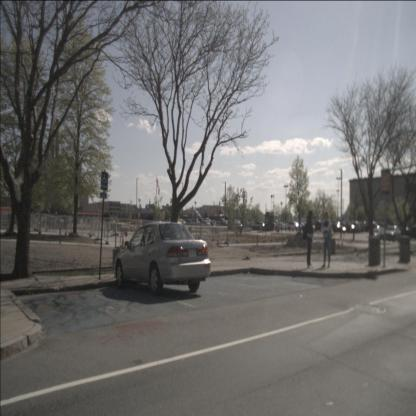human-pedestrian-adult: (302, 209, 315, 269), (321, 212, 334, 268)
movable_object-trafficcone: (120, 225, 126, 248), (216, 228, 219, 247)
vehicle-car: (114, 222, 212, 296), (384, 224, 401, 242), (287, 221, 301, 232), (251, 221, 264, 231), (274, 222, 286, 231), (312, 221, 324, 230), (234, 222, 244, 231), (218, 218, 228, 226), (192, 218, 200, 226)
